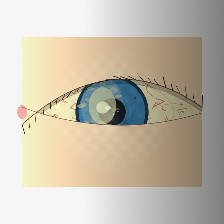corneal_ulcer: (72, 82, 133, 130)
